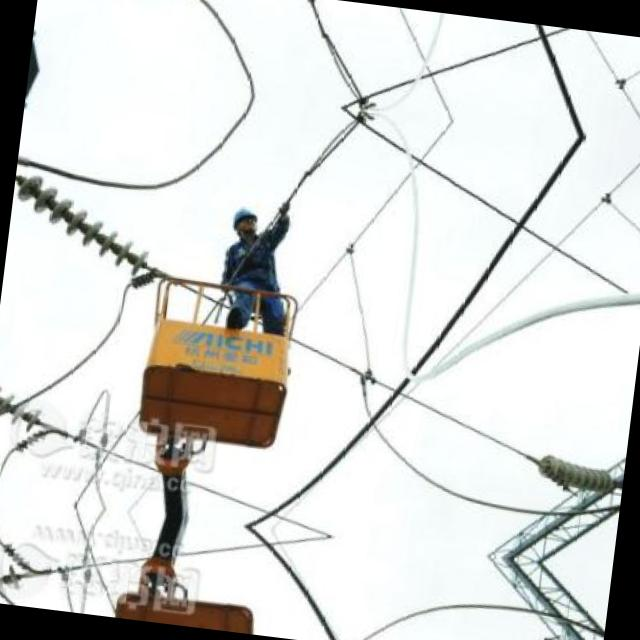helmet: (225, 200, 263, 241)
